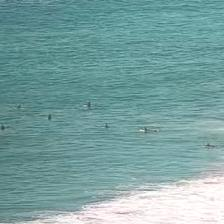surfer: (143, 126, 157, 133), (204, 143, 216, 148), (0, 124, 6, 130), (86, 100, 91, 107), (47, 114, 52, 119), (18, 104, 23, 109), (104, 124, 109, 128)
